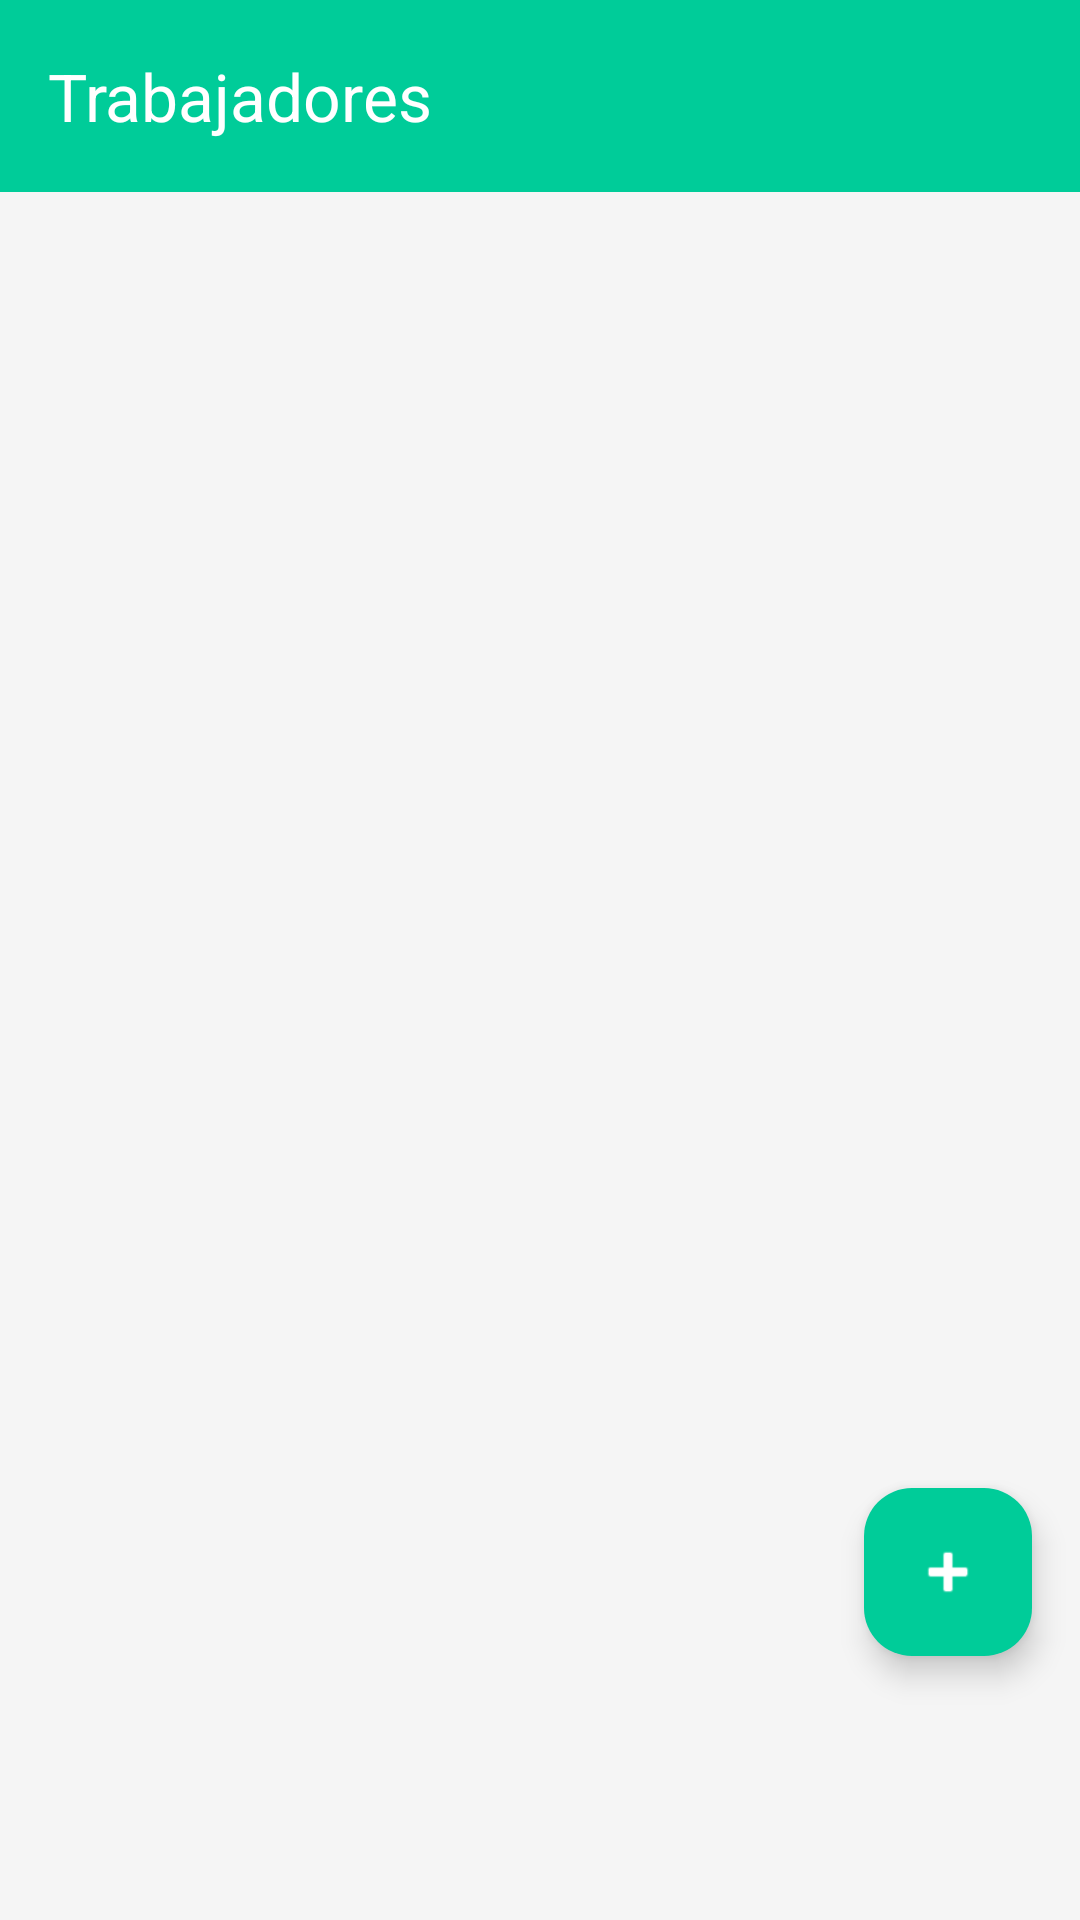

Icons on this 1080x1920 Android screen, each with its box as (x1, y1, x2, y2):
Añadir trabajador: (864, 1488, 1032, 1656)
